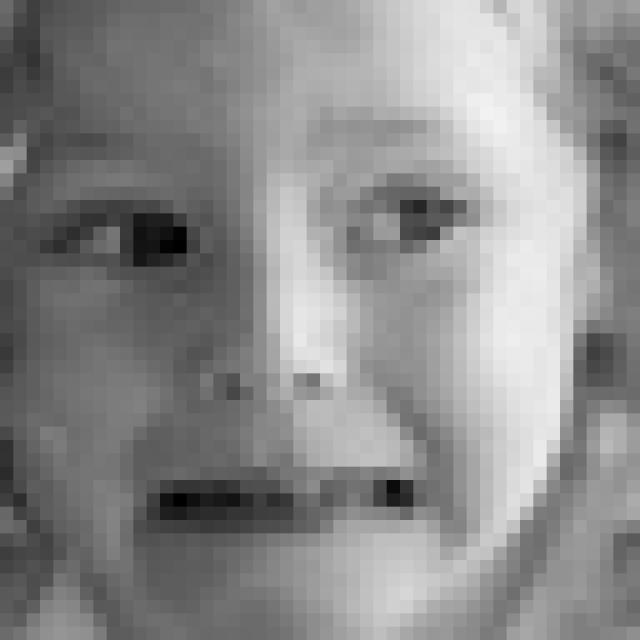fear: (32, 110, 502, 572)
